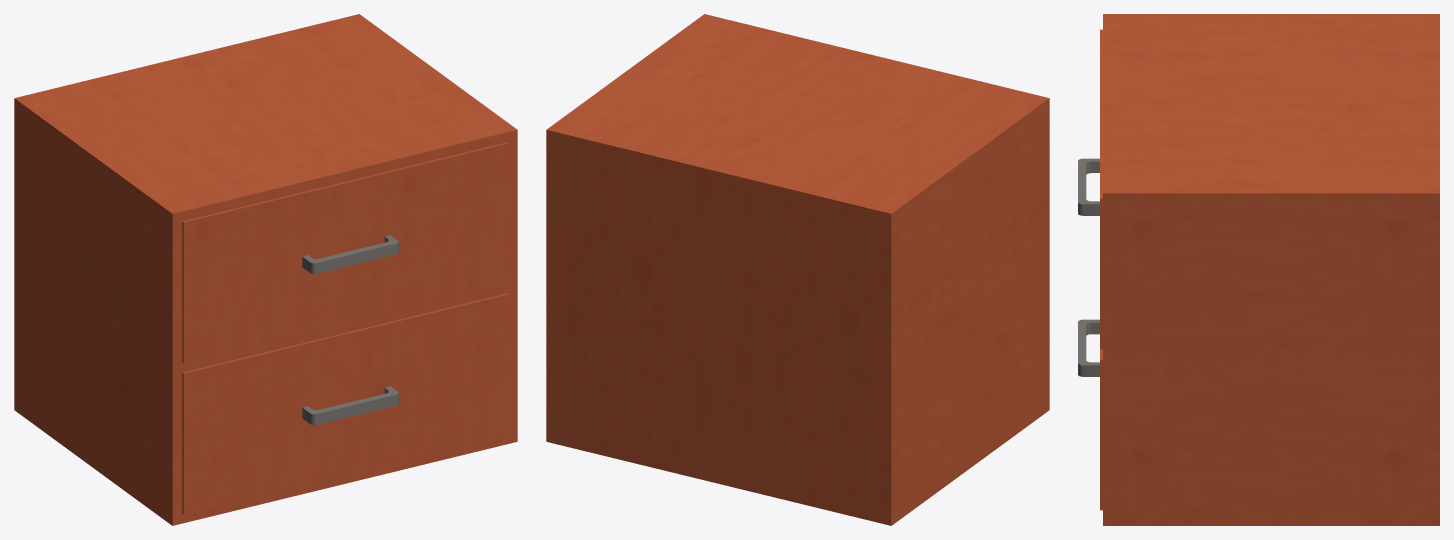
File: Drawer07.fbx
3 views of the same model, side by side, from view 1: azimuth 30°, elevation 25°; view 2: azimuth 150°, elevation 25°; view 3: azimuth 270°, elevation 25° (orthographic). The views are drawn at different scales.
Parts seen in each view (by area): view 1: Drawer_Body07, Drawer07_2, Drawer07_1; view 2: Drawer_Body07; view 3: Drawer_Body07, Drawer07_1, Drawer07_2.
Boxes of the visible parts, left/top/right/bottom form: Drawer_Body07: left=14, top=14, right=517, bottom=525; Drawer07_2: left=182, top=293, right=509, bottom=514; Drawer07_1: left=182, top=142, right=509, bottom=363; Drawer_Body07: left=546, top=14, right=1049, bottom=525; Drawer_Body07: left=1103, top=14, right=1439, bottom=525; Drawer07_1: left=1078, top=29, right=1102, bottom=349; Drawer07_2: left=1078, top=319, right=1102, bottom=510.
Bounding box in the file's own units: 51.44 × 44.45 × 43.83.
